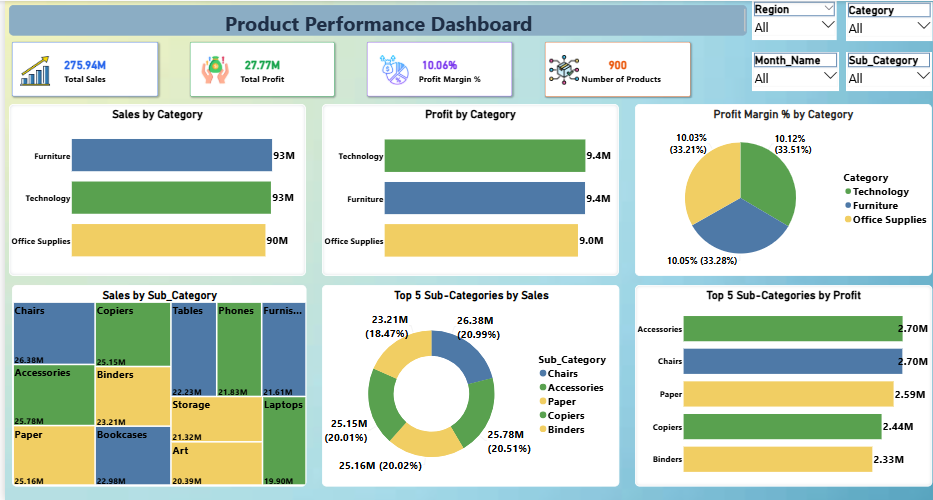

Layout of this report page (visuals, bound fields, positions):
{"tool":"powerbi","page":{"name":"Category & Product-wise Sales and Profit Analysis","canvas":[6000,3200],"ordinal":2},"visuals":[{"type":"barChart","title":"Sales by Category","fields":{"Category":["Dim_Product.Category"],"Y":["Sum(Fact_Sales.Sales)"]},"box":[28,660.2,1900,1100],"z":0},{"type":"card","fields":{"Values":["Fact_Sales.Total Sales"]},"box":[42,263.3,934.2,347.2],"z":1000,"group":"g4"},{"type":"group","id":"g1","title":"Group 1","box":[3458.1,264.5,930,350],"z":1000},{"type":"card","fields":{"Values":["Fact_Sales.Total Profit"]},"box":[1181.3,264.9,925.1,347.8],"z":2000,"group":"g5"},{"type":"group","id":"g2","title":"Group 2","box":[2319.7,264.9,927.7,346.9],"z":2000},{"type":"group","id":"g3","title":"Group 3","box":[1181.3,264.9,925.1,347.8],"z":3000},{"type":"card","fields":{"Values":["Fact_Sales.Profit Margin %"]},"box":[2319.7,264.9,927.7,346.9],"z":3000,"group":"g2"},{"type":"group","id":"g4","title":"Group 4","box":[42,263.3,934.2,347.2],"z":4000},{"type":"card","fields":{"Values":["Dim_Product.Number of Products"]},"box":[3458.1,264.5,930,350],"z":4000,"group":"g1"},{"type":"image","box":[81,350.3,220,190],"z":5000,"group":"g4"},{"type":"clusteredBarChart","title":"Profit by Category","fields":{"Category":["Dim_Product.Category"],"Y":["Sum(Fact_Sales.Profit)"]},"box":[2030.1,660.2,1900,1100],"z":5000},{"type":"image","box":[1232.7,349.9,220,190],"z":6000,"group":"g5"},{"type":"pieChart","fields":{"Category":["Dim_Product.Category"],"Y":["Fact_Sales.Profit Margin %"]},"box":[4032.3,660.2,1900,1100],"z":6000},{"type":"image","box":[2383.1,349.9,220,190],"z":7000,"group":"g2"},{"type":"treemap","title":"Sales by Sub_Category","fields":{"Values":["Sum(Fact_Sales.Sales)"],"Group":["Dim_Product.Sub_Category"]},"box":[45.2,1819.4,1883.9,1290.3],"z":7000},{"type":"image","box":[3472,350,220,190],"z":8000,"group":"g1"},{"type":"donutChart","title":"Top 5 Sub-Categories by Sales","fields":{"Category":["Dim_Product.Sub_Category"],"Y":["Sum(Fact_Sales.Sales)"]},"box":[2029,1819.4,1903.2,1290.3],"z":8000},{"type":"clusteredBarChart","title":"Top 5 Sub-Categories by Profit","fields":{"Category":["Dim_Product.Sub_Category"],"Y":["Sum(Fact_Sales.Profit)"]},"box":[4032.3,1819.4,1903.2,1290.3],"z":9000},{"type":"group","id":"g5","title":"Group 5","box":[1181.3,264.9,925.1,347.8],"z":9006,"group":"g3"},{"type":"slicer","fields":{"Values":["Dim_Product.Category"]},"box":[5380.6,6.5,554,250],"z":10000},{"type":"slicer","fields":{"Values":["Dim_Product.Sub_Category"]},"box":[5382.4,326.4,550.4,250],"z":11000},{"type":"slicer","fields":{"Values":["Dim_Customer.Region"]},"box":[4780.6,0,541.9,250],"z":12000},{"type":"slicer","fields":{"Values":["Dim_Date.Month_Name"]},"box":[4780.8,326.4,556.8,250],"z":13000},{"type":"textbox","box":[28,23,4723,196],"z":14000}]}

Visuals, with their boxes in screenshot pixels (x1, y1, x2, y2), scaled from the page's 6000x3200 canvas onto the 933x500 screenshot:
"Sales by Category" barChart: pyautogui.locateOnScreen(4, 103, 300, 275)
card - Fact_Sales.Total Sales: pyautogui.locateOnScreen(7, 41, 152, 95)
"Group 1" group: pyautogui.locateOnScreen(538, 41, 682, 96)
card - Fact_Sales.Total Profit: pyautogui.locateOnScreen(184, 41, 328, 96)
"Group 2" group: pyautogui.locateOnScreen(361, 41, 505, 96)
"Group 3" group: pyautogui.locateOnScreen(184, 41, 328, 96)
card - Fact_Sales.Profit Margin %: pyautogui.locateOnScreen(361, 41, 505, 96)
"Group 4" group: pyautogui.locateOnScreen(7, 41, 152, 95)
card - Dim_Product.Number of Products: pyautogui.locateOnScreen(538, 41, 682, 96)
image: pyautogui.locateOnScreen(13, 55, 47, 84)
"Profit by Category" clusteredBarChart: pyautogui.locateOnScreen(316, 103, 611, 275)
image: pyautogui.locateOnScreen(192, 55, 226, 84)
pieChart - Dim_Product.Category x Fact_Sales.Profit Margin %: pyautogui.locateOnScreen(627, 103, 922, 275)
image: pyautogui.locateOnScreen(371, 55, 405, 84)
"Sales by Sub_Category" treemap: pyautogui.locateOnScreen(7, 284, 300, 486)
image: pyautogui.locateOnScreen(540, 55, 574, 84)
"Top 5 Sub-Categories by Sales" donutChart: pyautogui.locateOnScreen(316, 284, 611, 486)
"Top 5 Sub-Categories by Profit" clusteredBarChart: pyautogui.locateOnScreen(627, 284, 923, 486)
"Group 5" group: pyautogui.locateOnScreen(184, 41, 328, 96)
slicer - Dim_Product.Category: pyautogui.locateOnScreen(837, 1, 923, 40)
slicer - Dim_Product.Sub_Category: pyautogui.locateOnScreen(837, 51, 923, 90)
slicer - Dim_Customer.Region: pyautogui.locateOnScreen(743, 0, 828, 39)
slicer - Dim_Date.Month_Name: pyautogui.locateOnScreen(743, 51, 830, 90)
textbox: pyautogui.locateOnScreen(4, 4, 739, 34)
